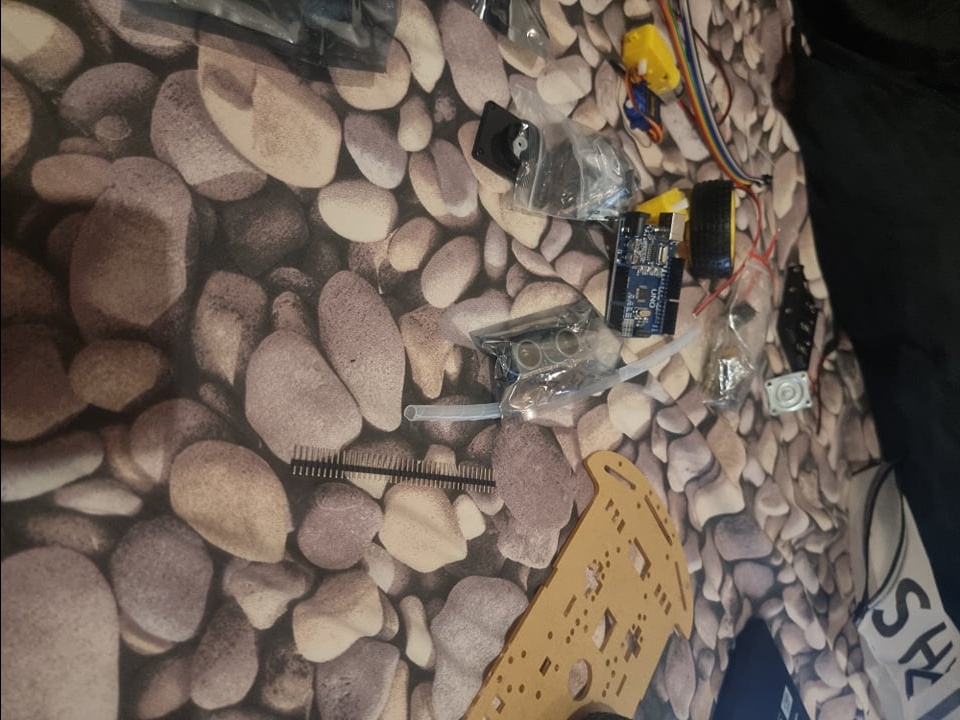BATTERY BOX: (772, 258, 821, 371)
SENSOR: (496, 320, 583, 385)
UNO R3: (602, 205, 688, 339)
